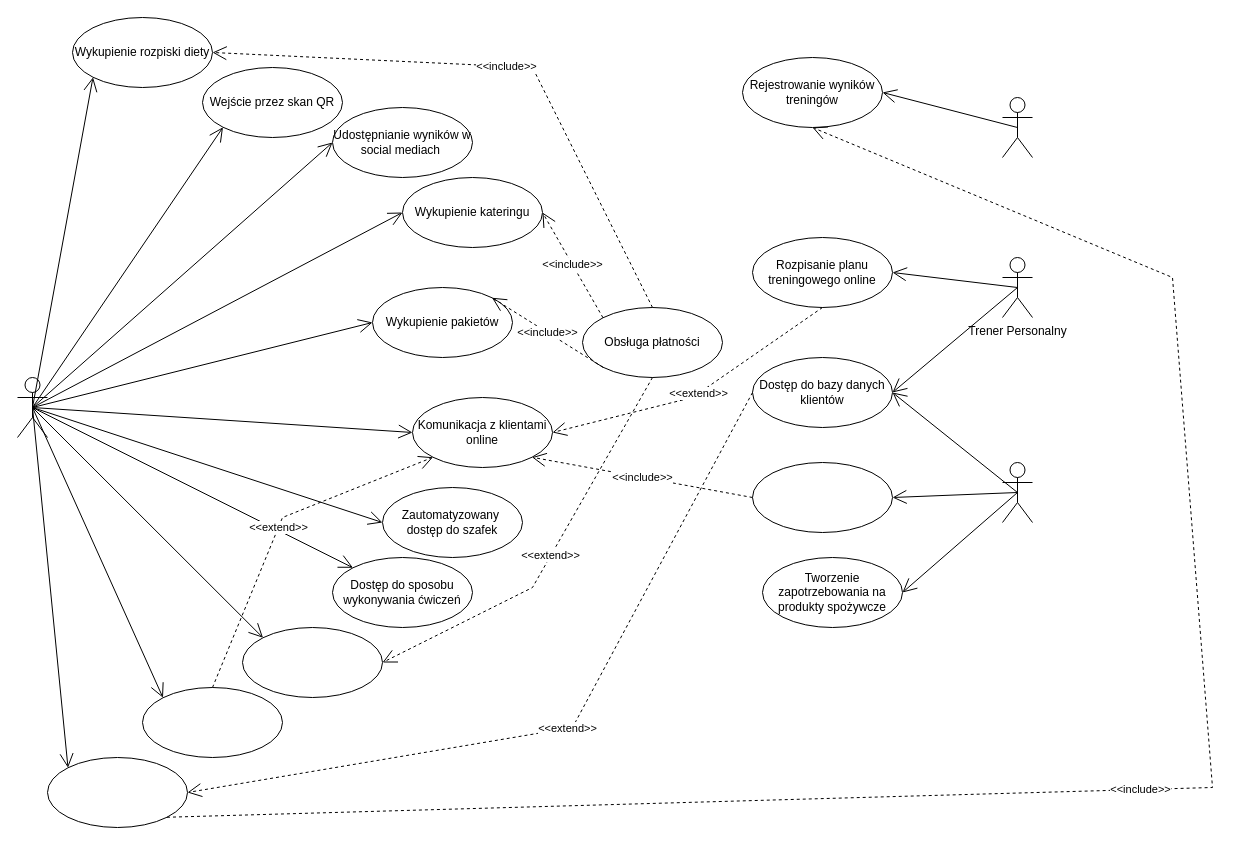
Some shapes in this 1244 by 849 pixel diagram are drawn without their labels. The centre of each missing label's shape, as x and y in pixels:
"Klient" goes at (x=32, y=407).
"Maszyna treningowa" goes at (x=1017, y=127).
"Monitorowanie efektów ćwiczeń" goes at (x=117, y=792).
"Obsługa centrum" goes at (x=1017, y=492).
"Powiadamianie o treningach" goes at (x=212, y=722).
"Wysyłanie ofert promocyjnych" goes at (x=822, y=497).
"Zarządzanie karnetem online" goes at (x=312, y=662).
